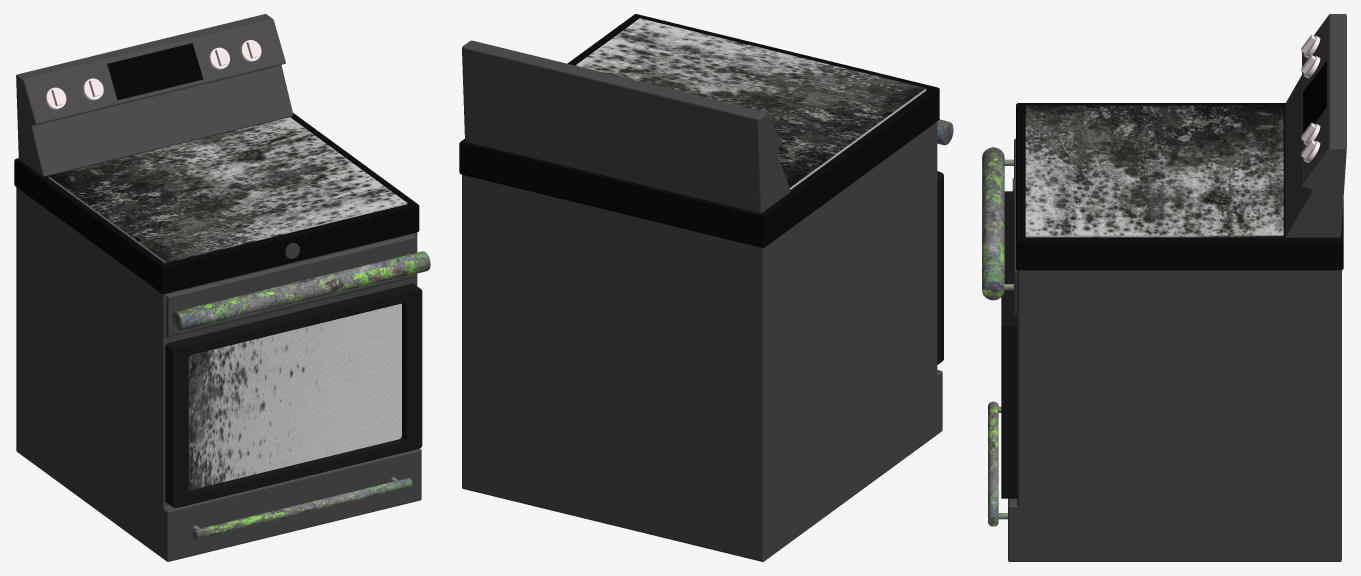
File: Stove.fbx
The picture shows the model from 3 angles, left to right: view 1: azimuth 30°, elevation 25°; view 2: azimuth 150°, elevation 25°; view 3: azimuth 270°, elevation 25°; orthographic projection. The views are drawn at different scales.
Parts seen in each view (by area): view 1: Cube, Cube.003, Cube.007, Cube.006, Cube.002, Cube.001, Cylinder, Cube.008, Cylinder.003; view 2: Cube, Cube.006, Cube.007, Cube.001, Cube.002; view 3: Cube, Cube.007, Cube.001, Cube.006, Cube.002, Cylinder, Cylinder.003, Cube.008.
Part boxes in pixels (bbox=[...]): Cube: bbox=[16, 187, 421, 561]; Cube.003: bbox=[188, 303, 401, 490]; Cube.007: bbox=[48, 117, 407, 263]; Cube.006: bbox=[16, 14, 293, 176]; Cube.002: bbox=[165, 283, 422, 507]; Cube.001: bbox=[14, 113, 419, 293]; Cylinder: bbox=[172, 251, 430, 331]; Cube.008: bbox=[107, 43, 203, 100]; Cylinder.003: bbox=[192, 478, 412, 539]; Cube: bbox=[462, 121, 942, 561]; Cube.006: bbox=[462, 40, 790, 213]; Cube.007: bbox=[575, 18, 926, 189]; Cube.001: bbox=[459, 14, 939, 247]; Cube.002: bbox=[937, 171, 943, 364]; Cube: bbox=[1008, 138, 1341, 561]; Cube.007: bbox=[1025, 105, 1283, 237]; Cube.001: bbox=[1016, 103, 1343, 270]; Cube.006: bbox=[1285, 14, 1346, 237]; Cube.002: bbox=[1001, 191, 1017, 498]; Cylinder: bbox=[982, 147, 1004, 300]; Cylinder.003: bbox=[988, 401, 998, 526]; Cube.008: bbox=[1303, 61, 1326, 133].
Bounding box in the file's own units: 290 × 403 × 322.
9 materials, 3 textured.
